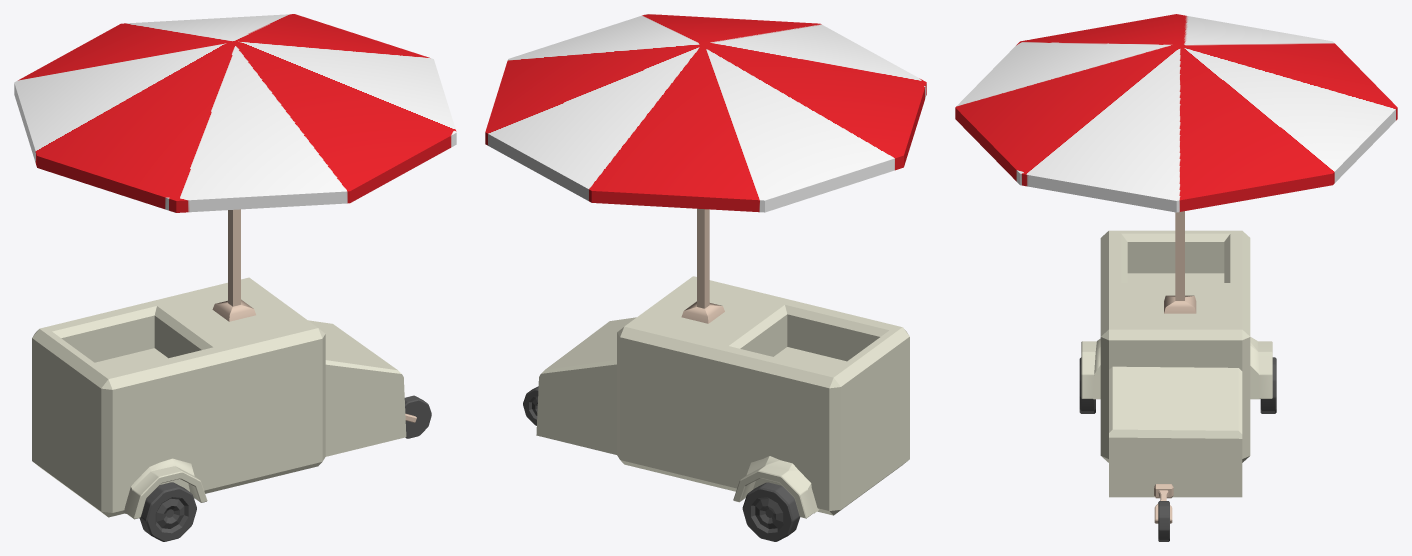
Rendered from HotdogstandTextured.fbx.
3 views of the same model, side by side, from view 1: azimuth 30°, elevation 25°; view 2: azimuth 150°, elevation 25°; view 3: azimuth 270°, elevation 25° (orthographic). The views are drawn at different scales.
Visible parts, largest first — view 1: pCylinder14, pCube35, pCylinder12, pPipe2, pCube38, pCylinder13; view 2: pCylinder14, pCube35, pCylinder11, pPipe2, pCube38; view 3: pCylinder14, pCube35, pPipe2, pCube38.
Part boxes in pixels (x1,y1,x2,y2): pCylinder14: [14, 14, 456, 212]; pCube35: [32, 277, 406, 517]; pCylinder12: [139, 482, 196, 541]; pPipe2: [123, 458, 207, 519]; pCube38: [212, 209, 255, 321]; pCylinder13: [404, 395, 431, 438]; pCylinder14: [485, 14, 926, 212]; pCube35: [536, 276, 909, 515]; pCylinder11: [742, 482, 800, 541]; pPipe2: [733, 456, 819, 518]; pCube38: [681, 208, 724, 323]; pCylinder14: [955, 14, 1397, 212]; pCube35: [1100, 230, 1250, 497]; pPipe2: [1081, 337, 1272, 399]; pCube38: [1164, 211, 1196, 313].
Bounding box in the file's own units: 13.59 × 14.21 × 13.59.
4 materials, 1 textured.
